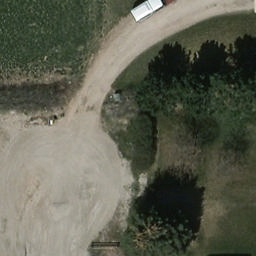car: (129, 0, 166, 22)
